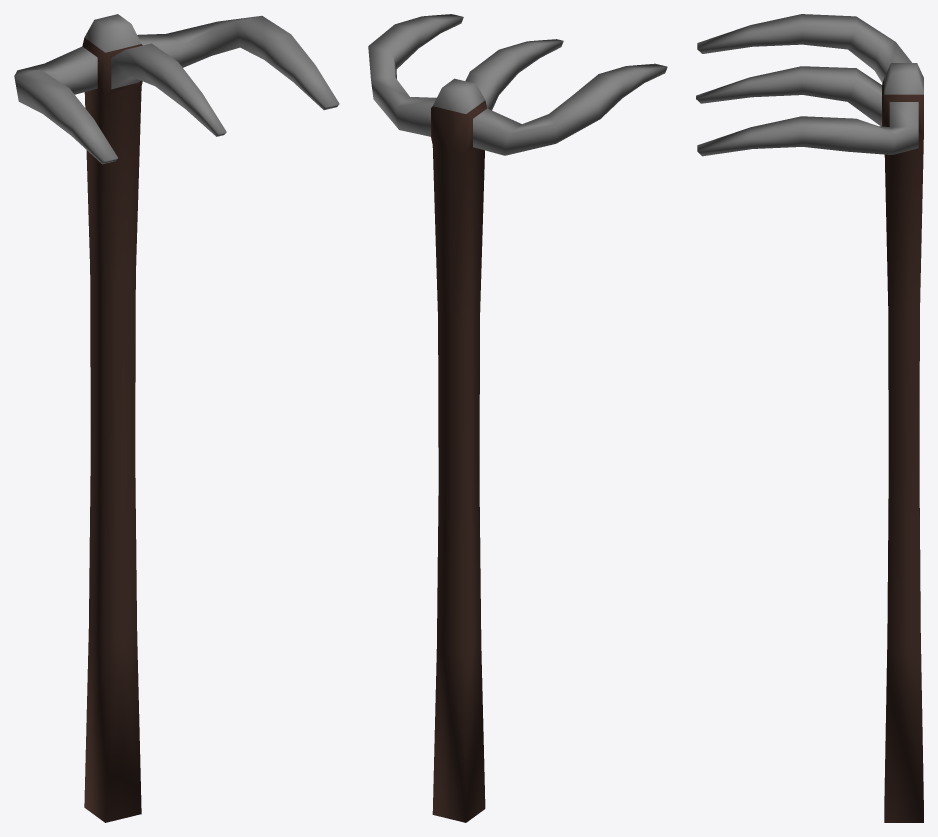
File: 농기구.fbx
The picture shows the model from 3 angles, left to right: view 1: azimuth 30°, elevation 25°; view 2: azimuth 150°, elevation 25°; view 3: azimuth 270°, elevation 25°; orthographic projection. The views are drawn at different scales.
Visible parts, largest first — view 1: Box007; view 2: Box007; view 3: Box007.
Part boxes in pixels (x1,y1,x2,y2): Box007: (14, 14, 339, 822); Box007: (368, 14, 667, 822); Box007: (696, 14, 923, 822).
Size of the model in its own units: 71.66 by 60.29 by 218.
